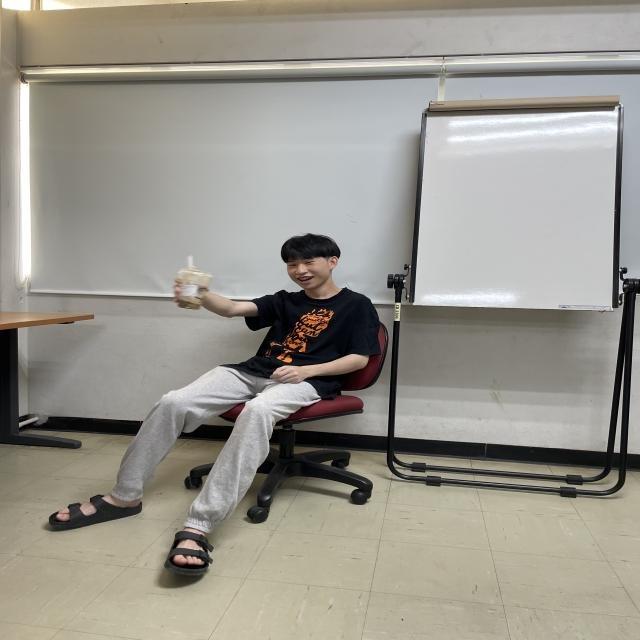cup: (176, 268, 214, 310)
